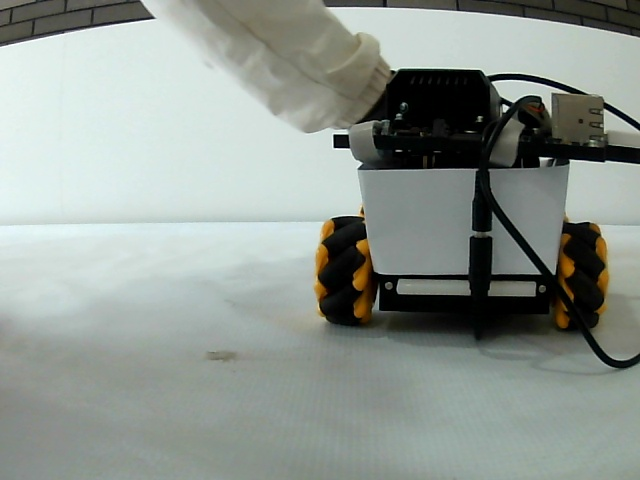car: (317, 68, 604, 318)
paper: (362, 171, 557, 272)
